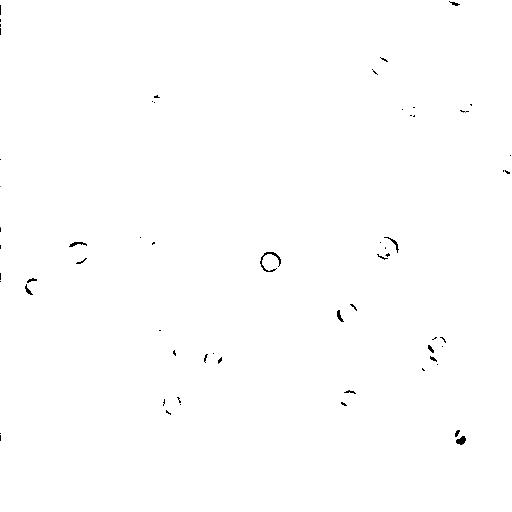micro-algae: (199, 424, 315, 512), (385, 302, 473, 388), (0, 385, 51, 457), (1, 234, 37, 291), (104, 415, 142, 446), (60, 238, 92, 267), (41, 349, 74, 377), (150, 305, 178, 334), (373, 234, 400, 262), (75, 488, 101, 512), (386, 338, 415, 359), (370, 56, 395, 80), (123, 180, 143, 210), (172, 339, 197, 363), (335, 301, 360, 325), (203, 345, 224, 373), (259, 250, 283, 274), (2, 7, 23, 32), (22, 278, 48, 298), (137, 227, 158, 251), (161, 393, 182, 417), (338, 388, 361, 409), (139, 0, 170, 15), (426, 335, 449, 355), (421, 356, 444, 376), (454, 93, 475, 113), (497, 147, 512, 175), (400, 101, 422, 120), (452, 425, 470, 447), (446, 1, 466, 7)
